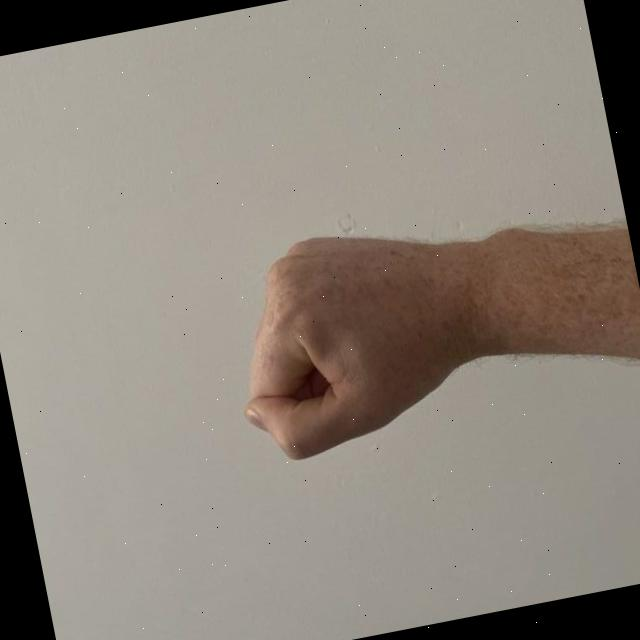rock: (213, 197, 538, 472)
